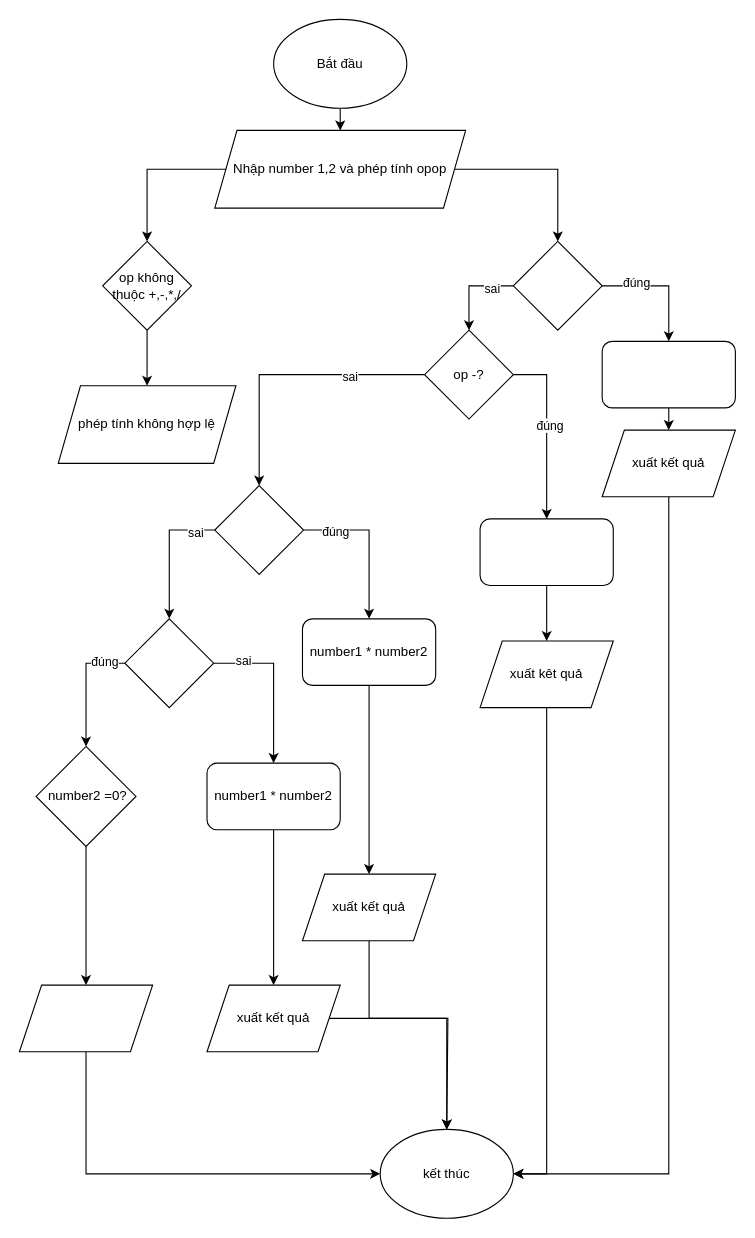
Image size: 755x1238. Some labels were removed from this diagram. The shapes that lost their labels are listed below. From the top down, each one's centre as x and y in pixels, then its label:
At point (557, 285): "op +?".
At point (668, 374): "number1 + number2".
At point (259, 529): "op *?".
At point (546, 552): "number1 - number2".
At point (169, 663): "op /?".
At point (85, 1018): "lỗi chia 0".
